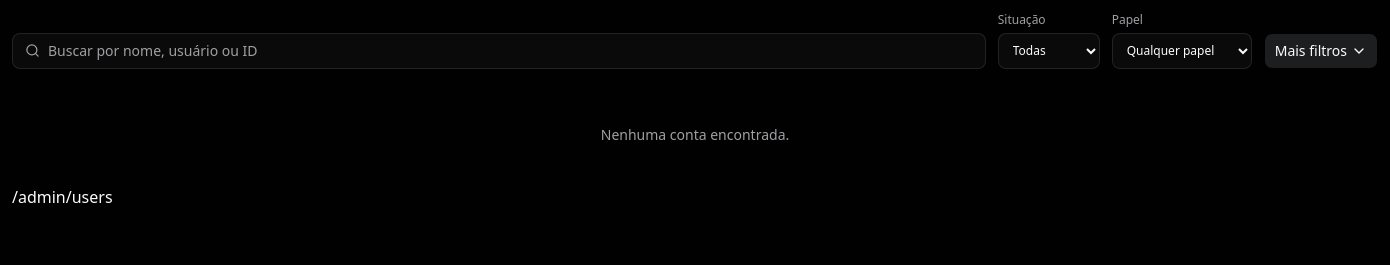
it: filters live in the URL › clicking a filter writes it to the URL, and the empty state offers to clear them
This screenshot has width=1390, height=265.
Expected: the text "Nenhuma conta encontrada." is shown, 601,125 -> 789,145
Expected: the button "Limpar filtros" is not shown
Select "Suspensas" in the dropdown labelled "Situação" at (1049, 51), box 998,33 -> 1100,69
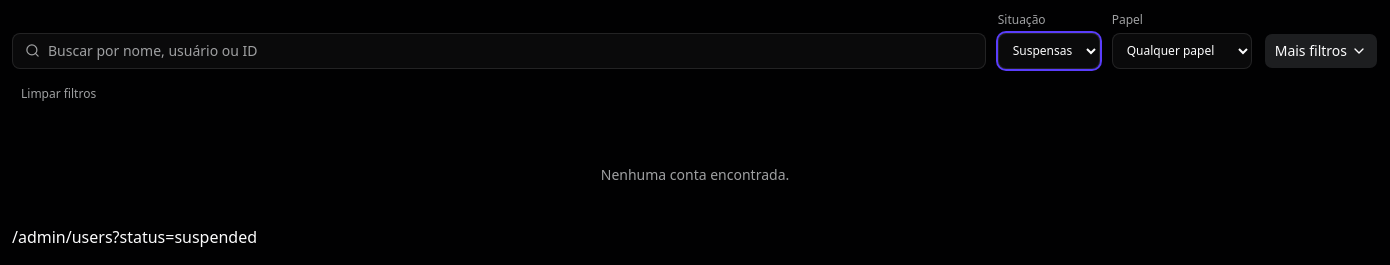
Result: the text named "location" reads "/admin/users?status=suspended" at 12,226 -> 257,248
Click the button "Limpar filtros".
click(59, 95)  # box 12,81 -> 105,109
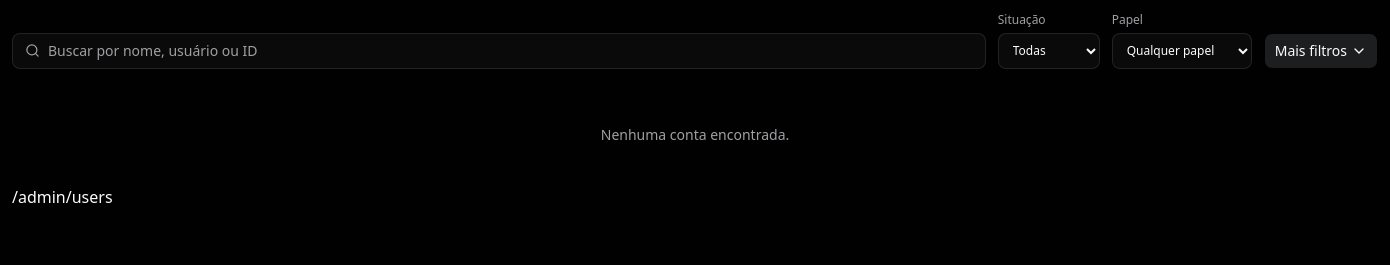
Result: the text named "location" reads "/admin/users" at 12,186 -> 112,208
